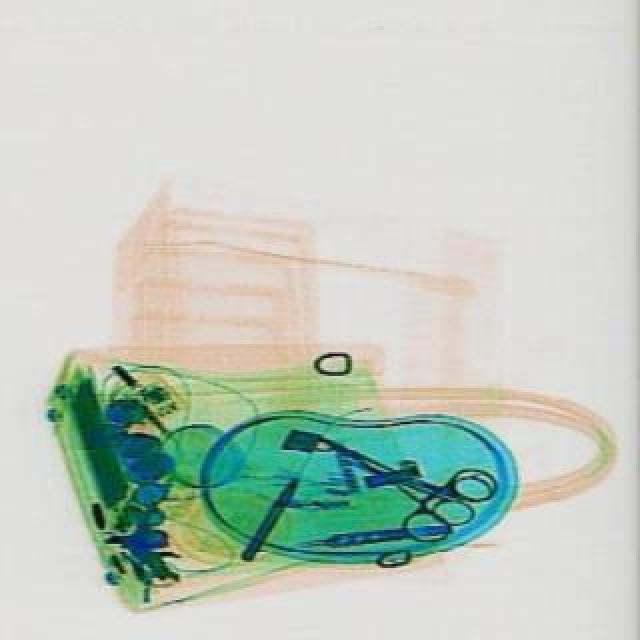pliers: (294, 398, 506, 556), (340, 424, 508, 534)
